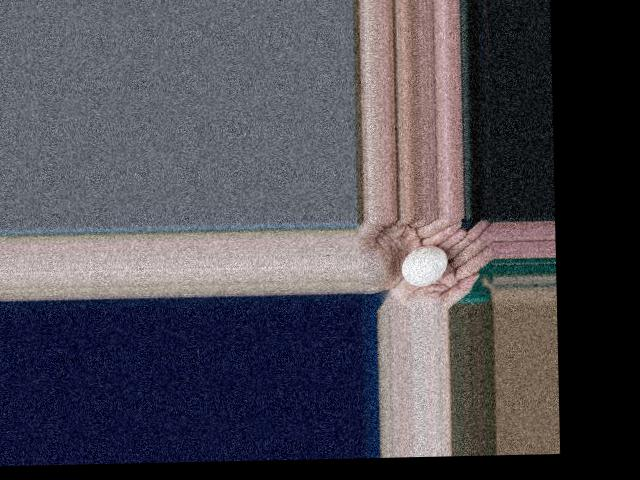egg: (402, 245, 448, 285)
